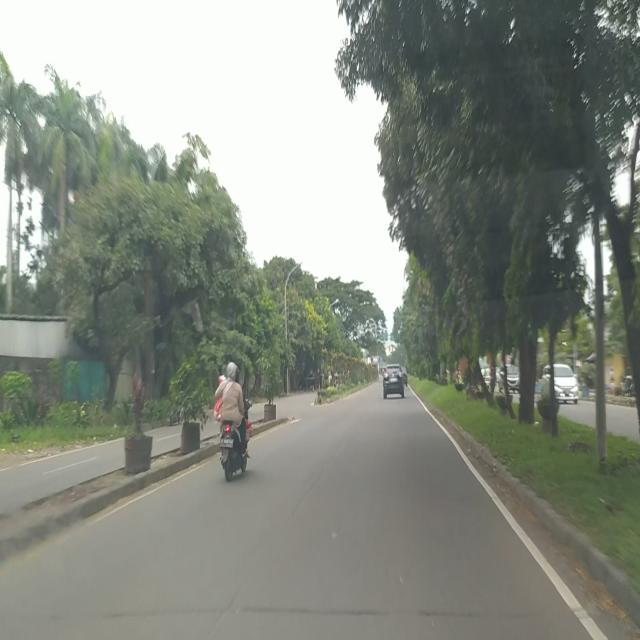Sewer Cover: (234, 596, 572, 624)
